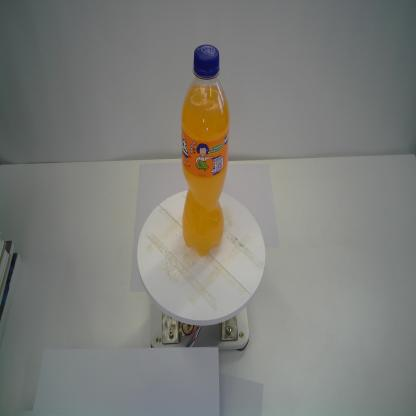Drink: (179, 42, 230, 260)
